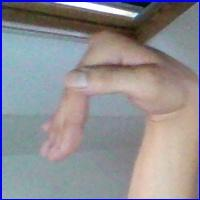del: (30, 27, 187, 172)
